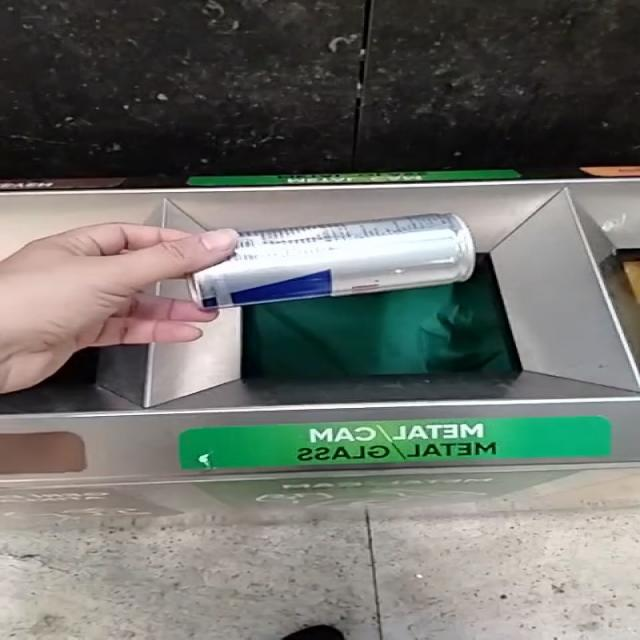metal: (191, 213, 476, 308)
